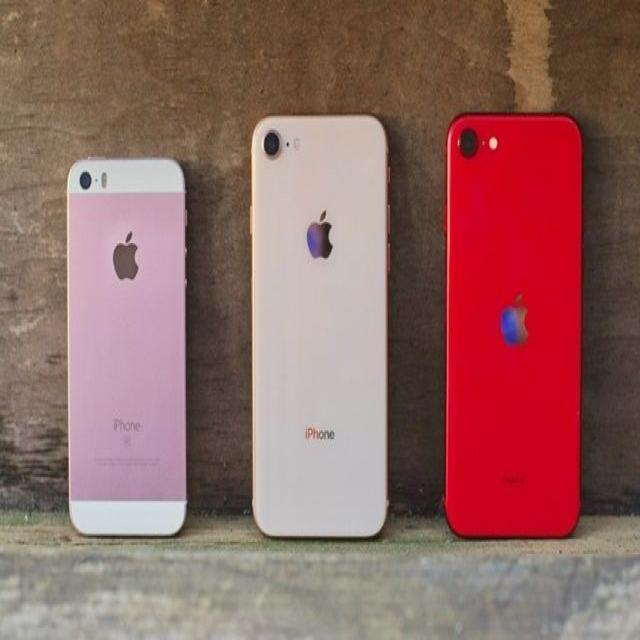phone: (250, 111, 390, 542), (446, 114, 582, 542), (64, 157, 191, 543)
